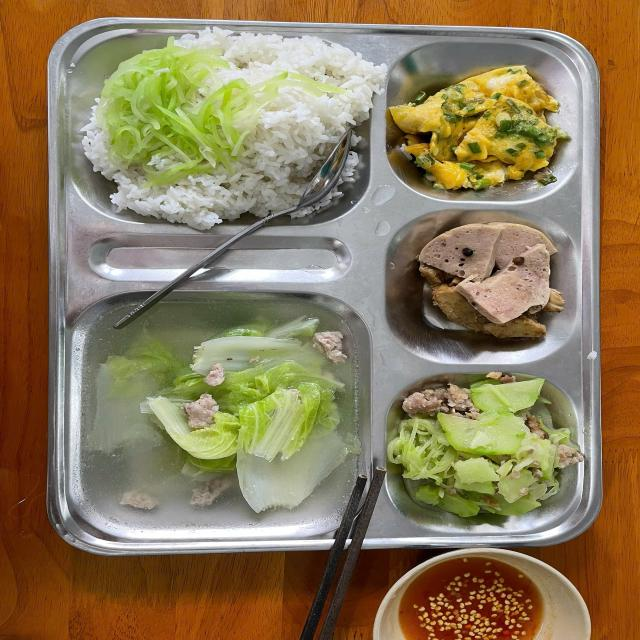canhcai: (85, 305, 358, 526)
giocha: (417, 220, 559, 346)
salad: (67, 24, 396, 229)
suluoc: (396, 379, 574, 516)
suon: (86, 38, 254, 183)
trungluoc: (387, 64, 569, 197)
